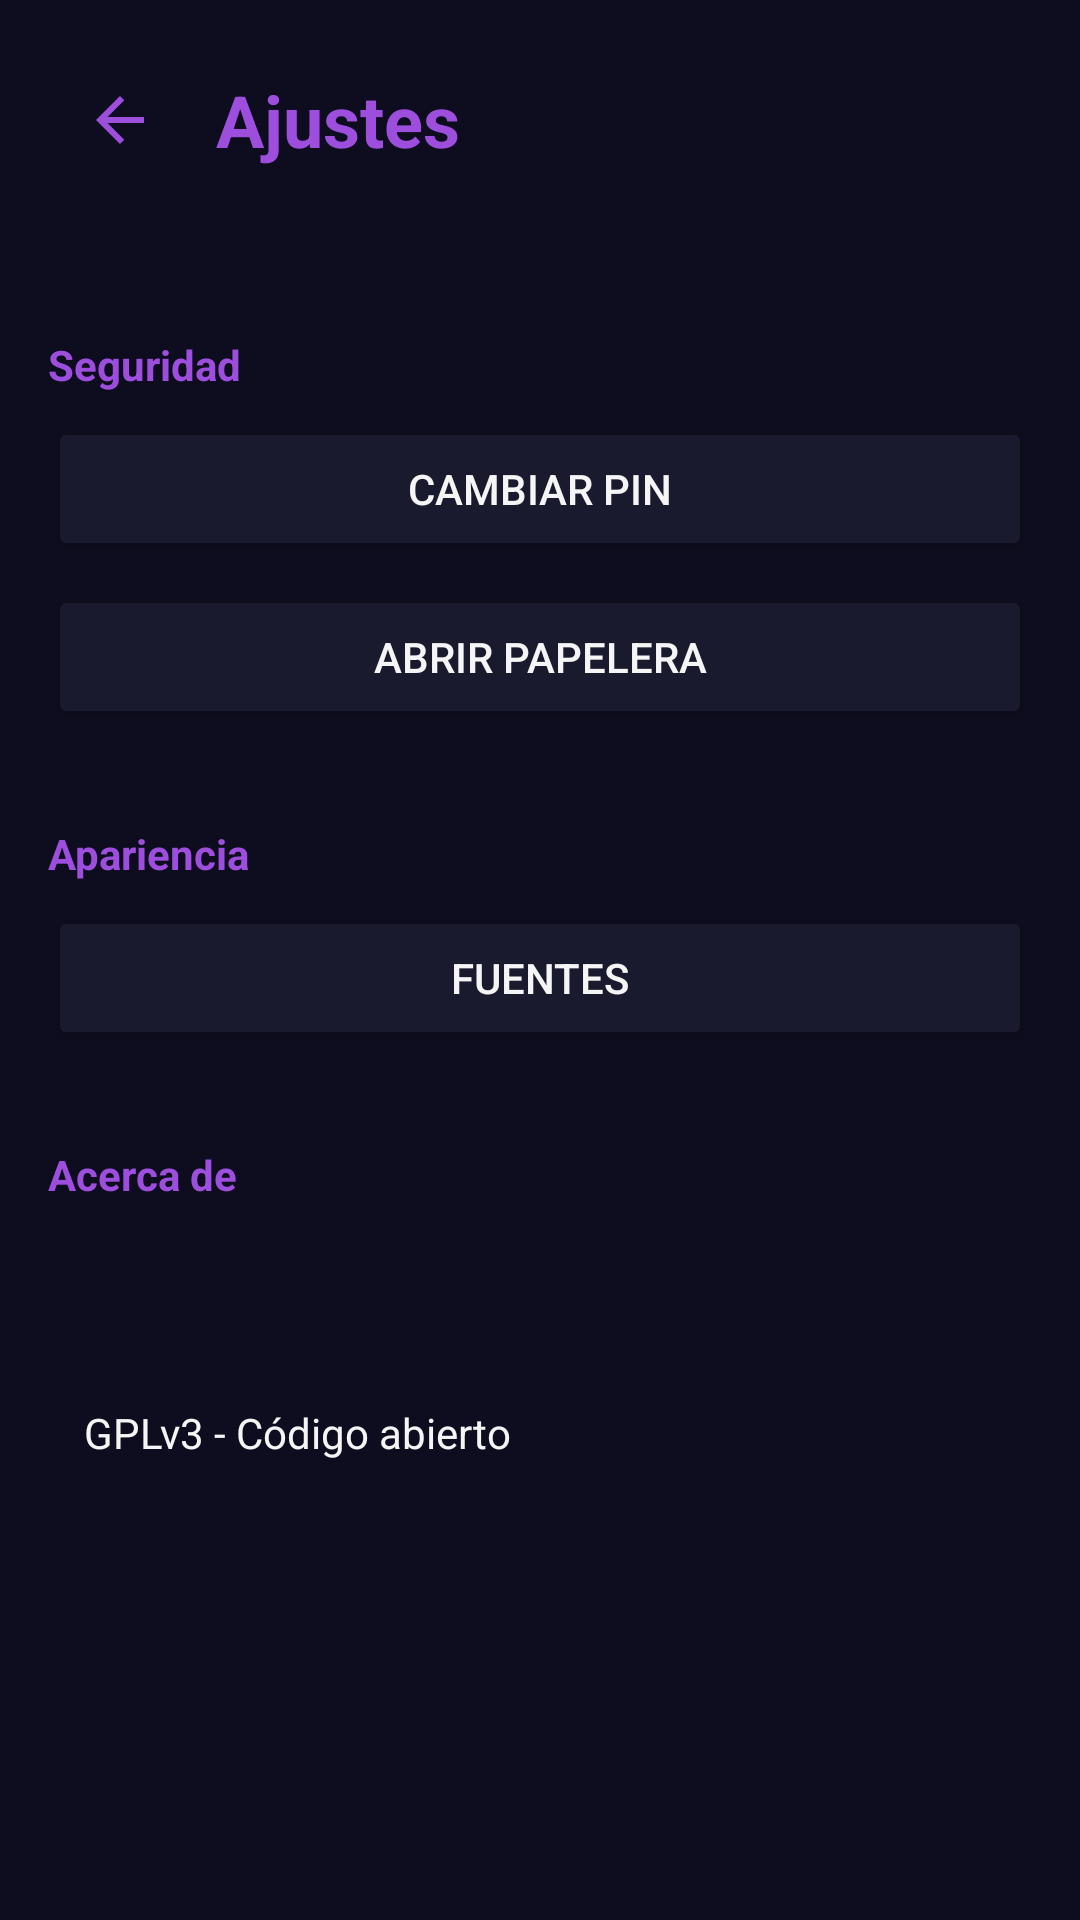

Where to tap for icons on this 1080 × 1920 app screen, as [x,y]:
Atrás: [120,120]
